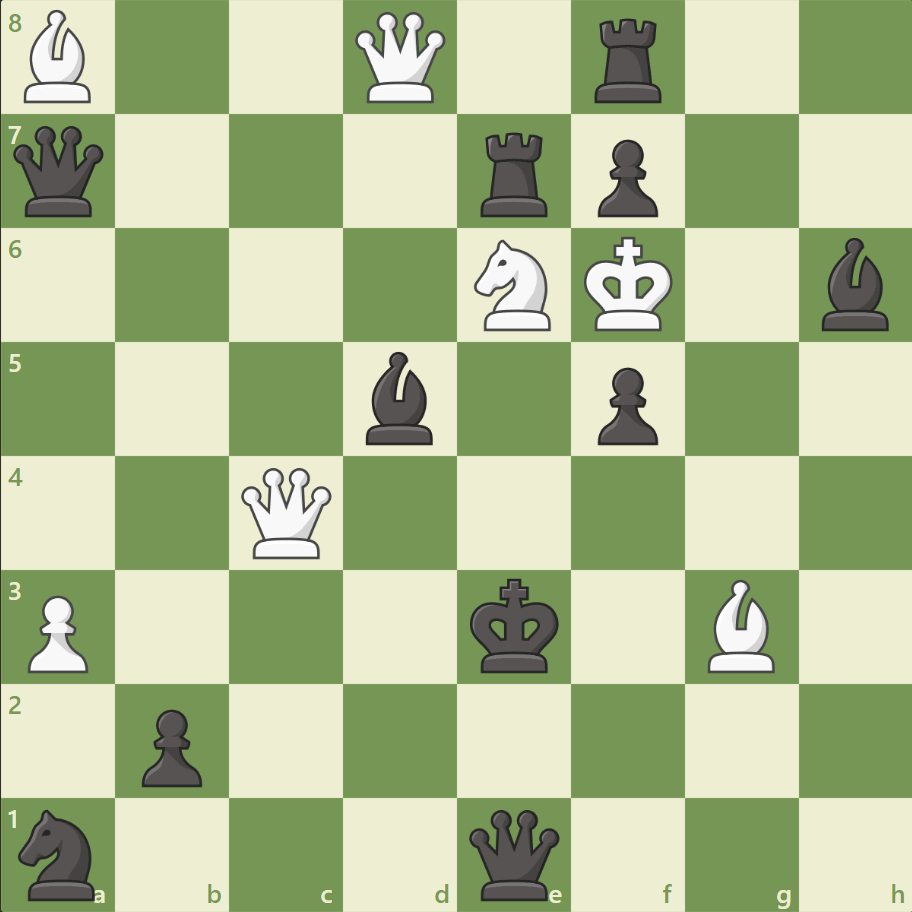B: (17, 6, 101, 109), (698, 574, 782, 676)
K: (579, 231, 679, 339)
N: (465, 234, 562, 337)
P: (20, 586, 95, 677)
Q: (351, 9, 450, 108), (237, 463, 336, 562)
b: (812, 233, 896, 336), (358, 347, 442, 449)
k: (465, 571, 565, 679)
n: (11, 802, 108, 904)
p: (133, 700, 208, 791), (588, 132, 662, 223), (588, 359, 662, 450)
q: (10, 122, 109, 222), (464, 804, 563, 903)
r: (587, 12, 670, 109), (473, 125, 556, 222)
